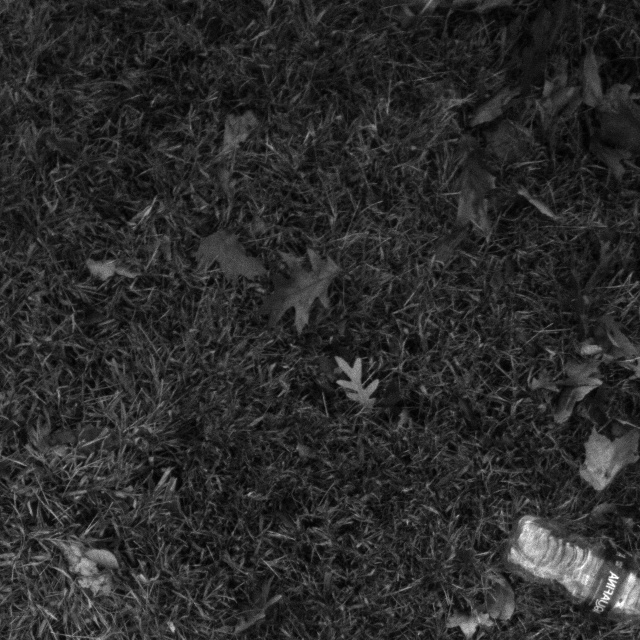bottle: (493, 514, 640, 628)
